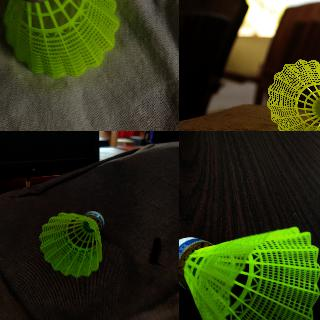shuttlecock: (179, 226, 319, 319), (1, 0, 119, 78), (40, 208, 102, 276), (266, 59, 319, 130)
